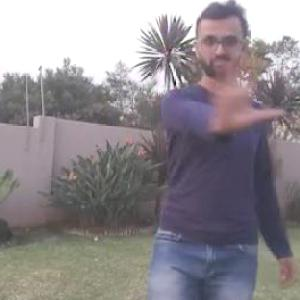follow_hand: (202, 44, 286, 131)
